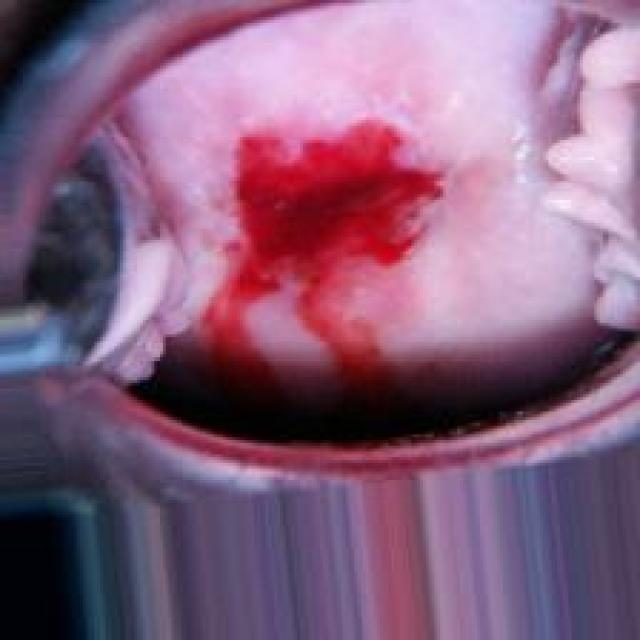type-1: (99, 10, 640, 443)
